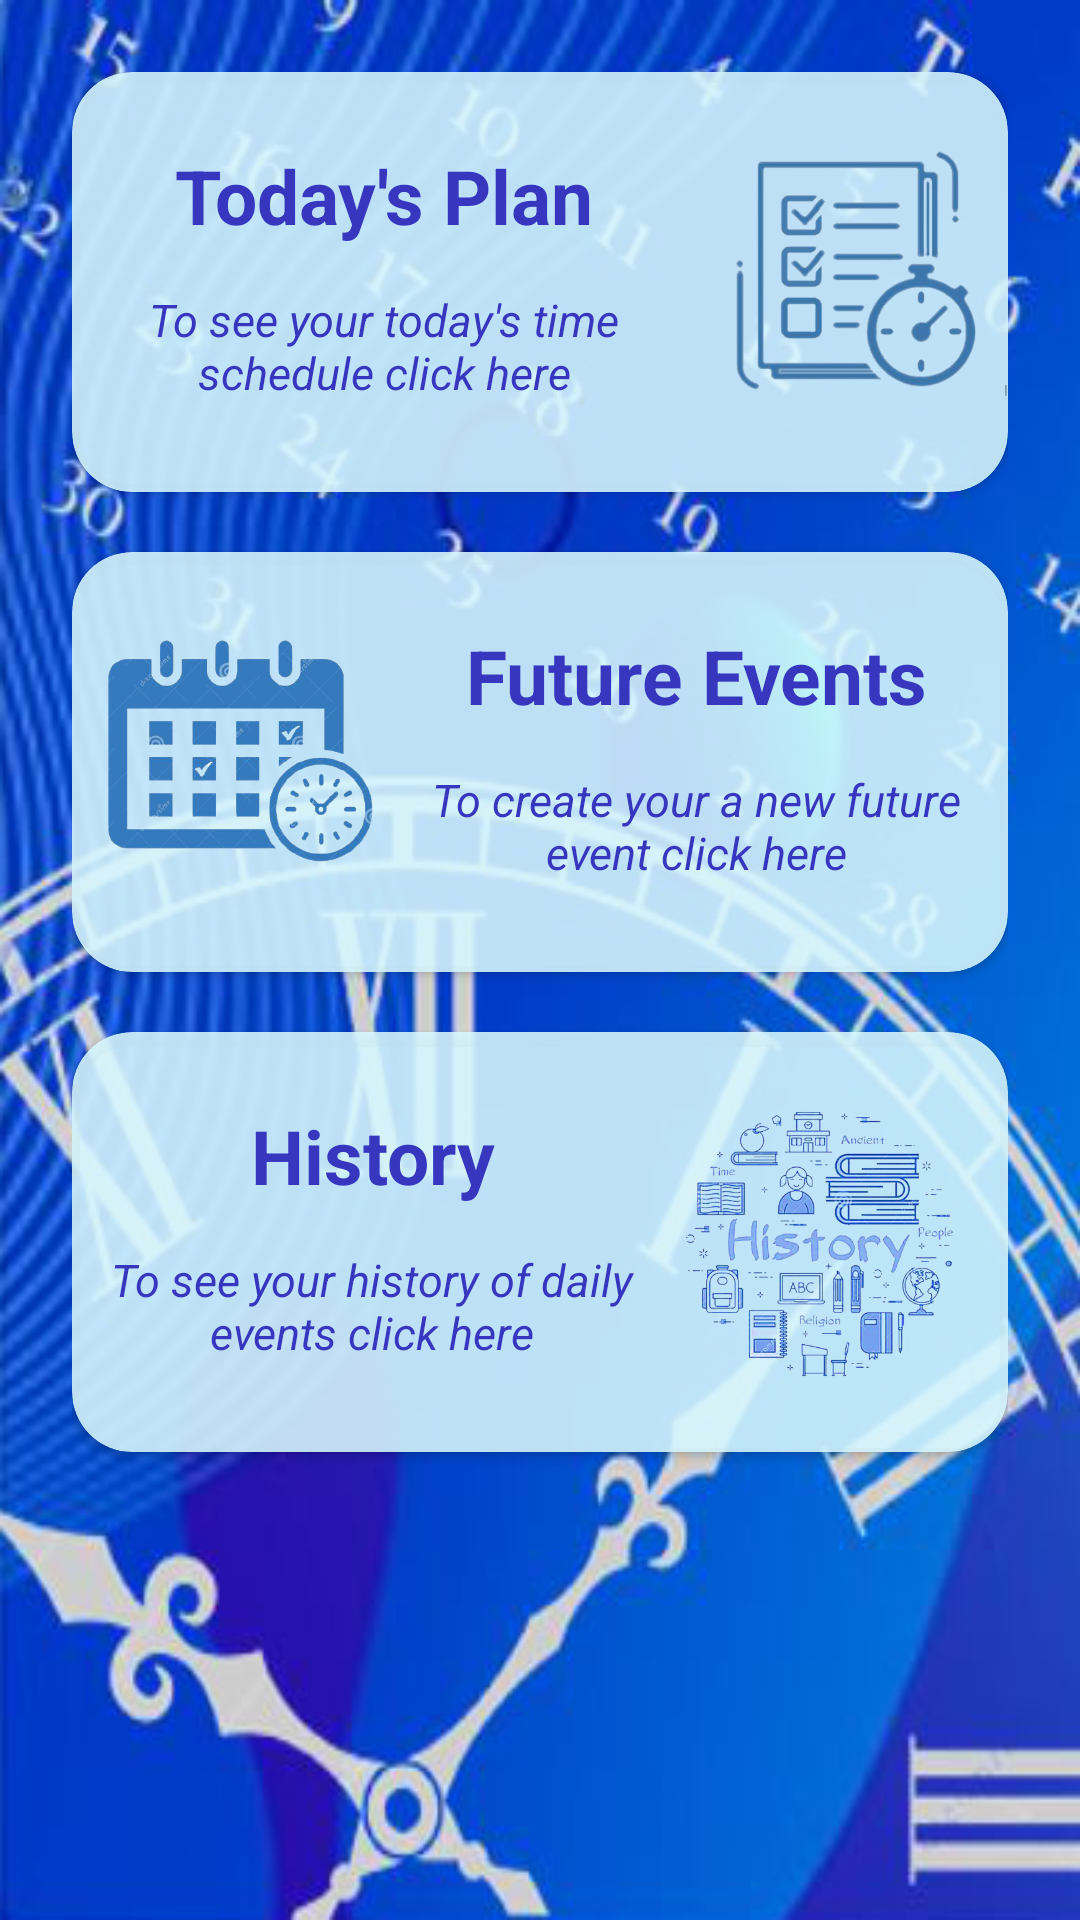

Named icons in this screenshot (1080 x 1920) and their bounding boxes, (x1, y1, x2, y2):
plan event: (80, 626, 384, 912)
